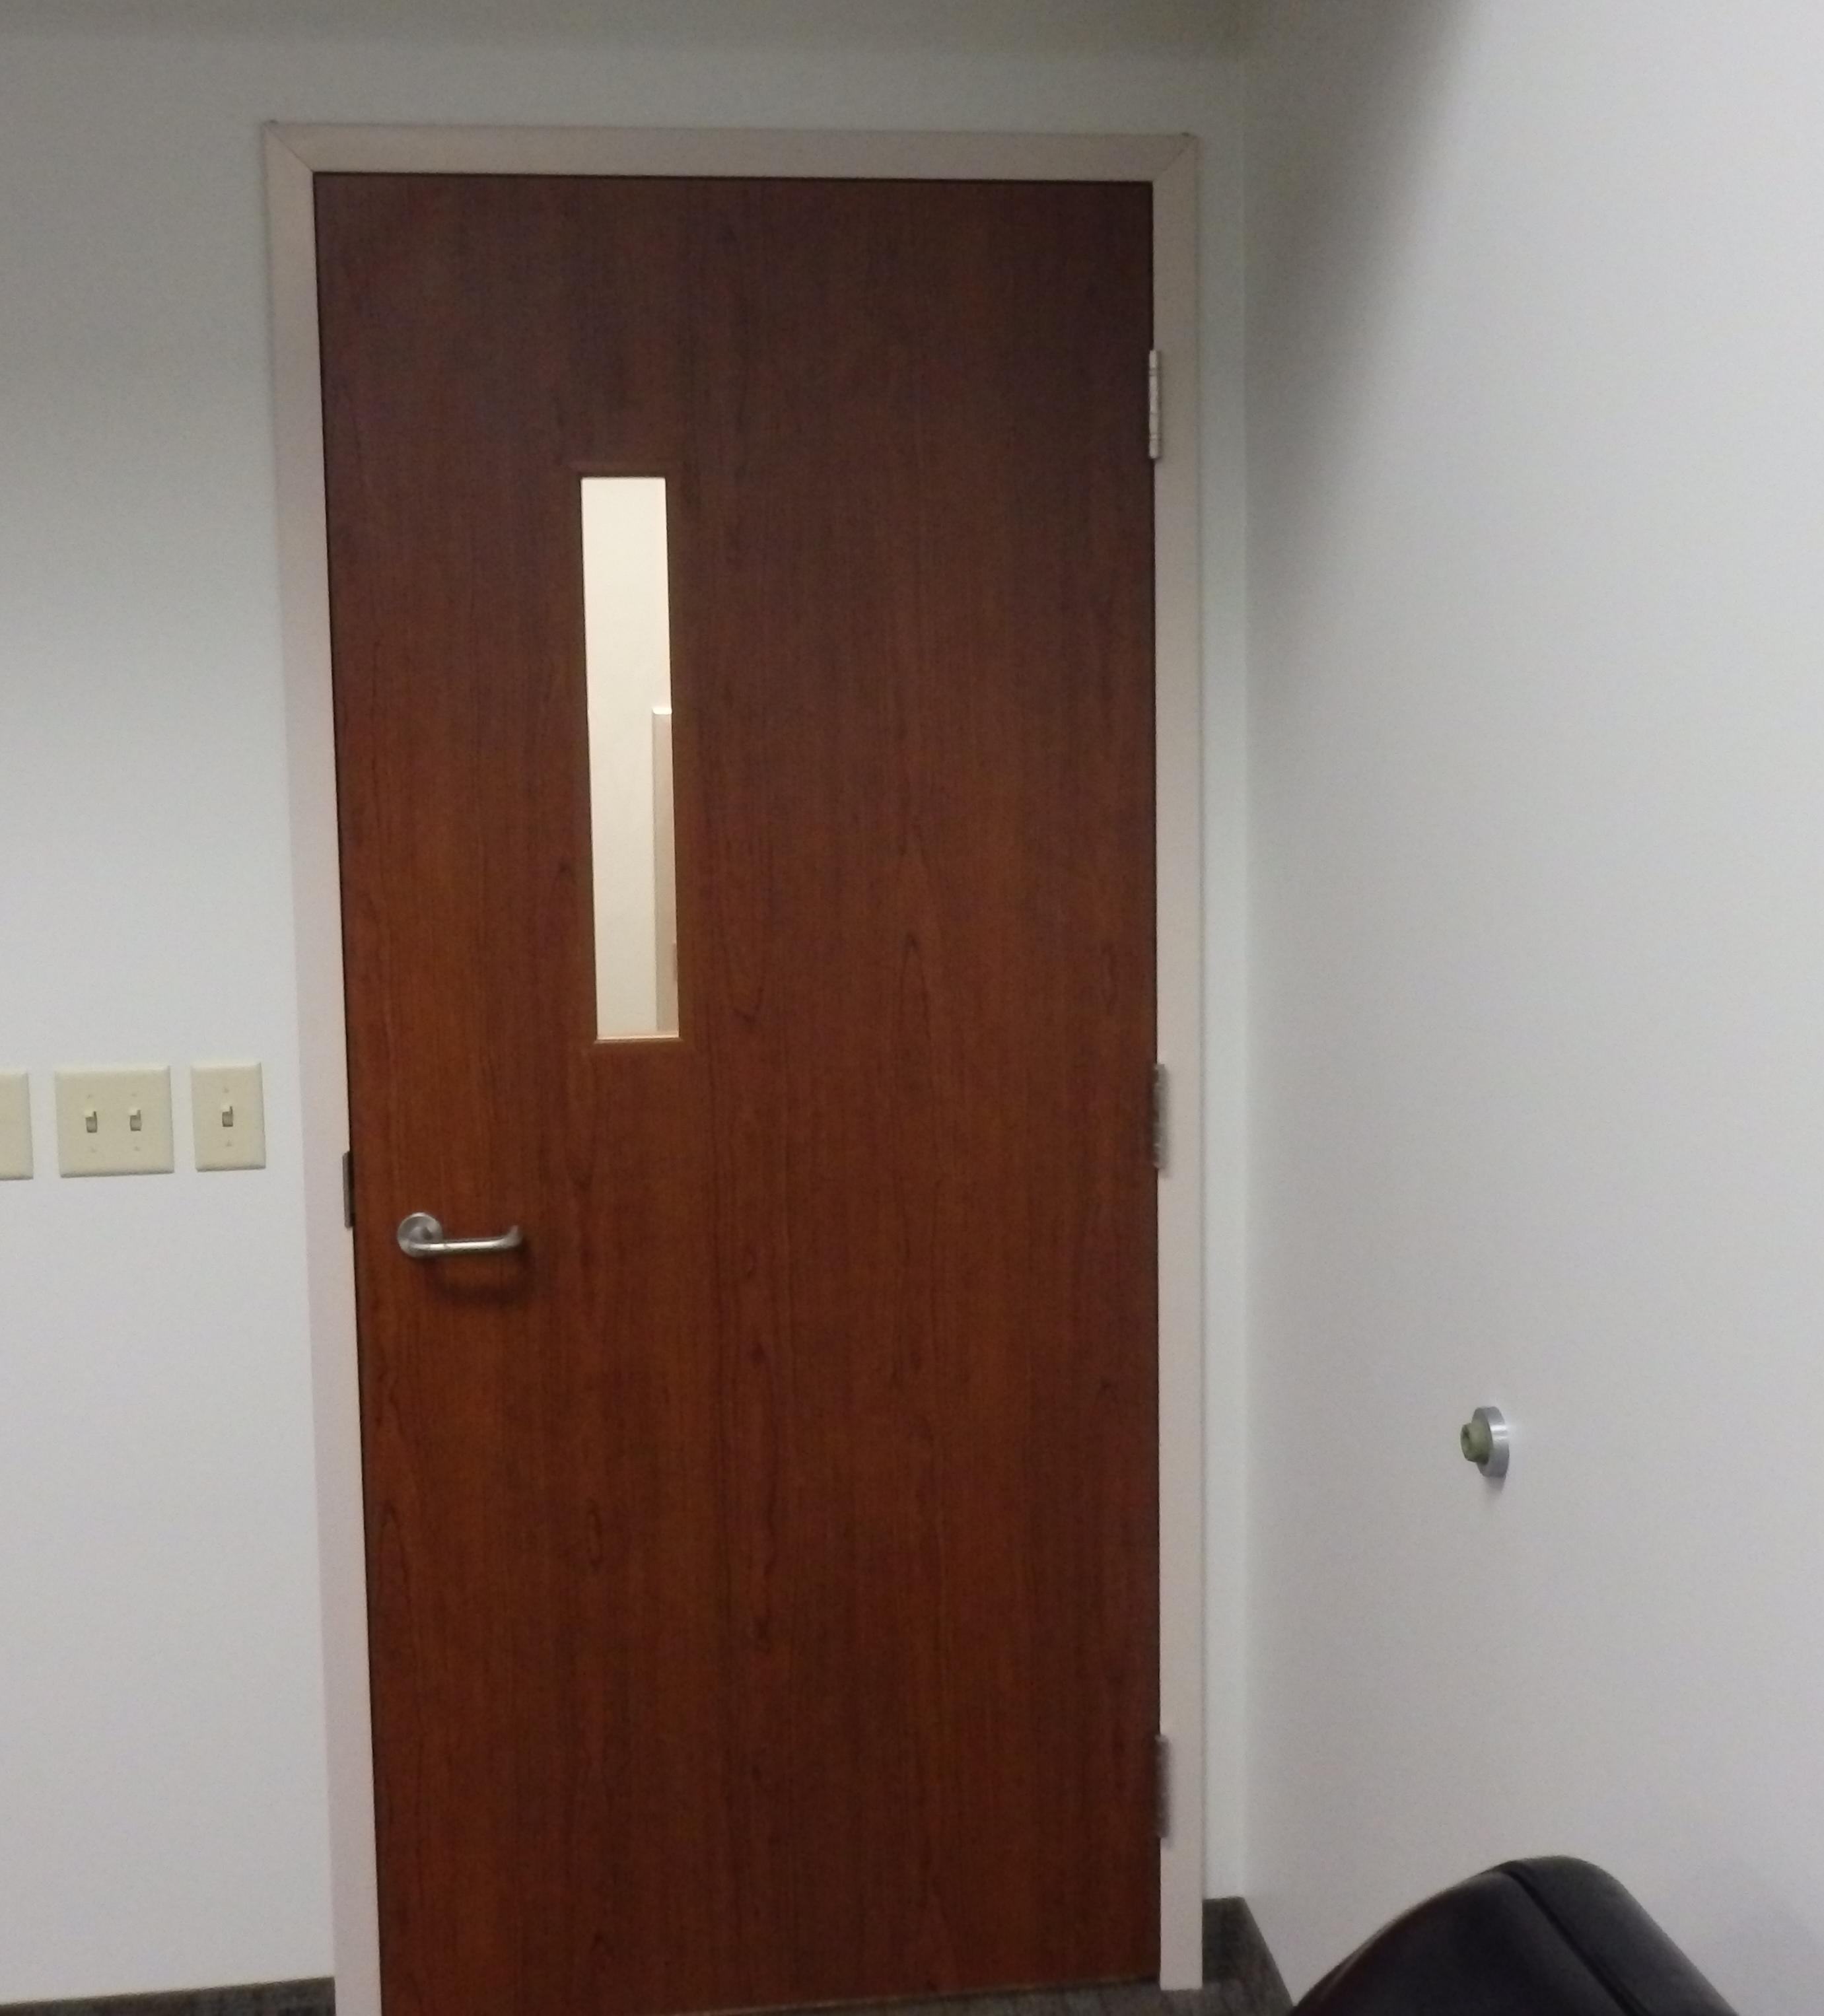door: (262, 128, 1206, 2011)
